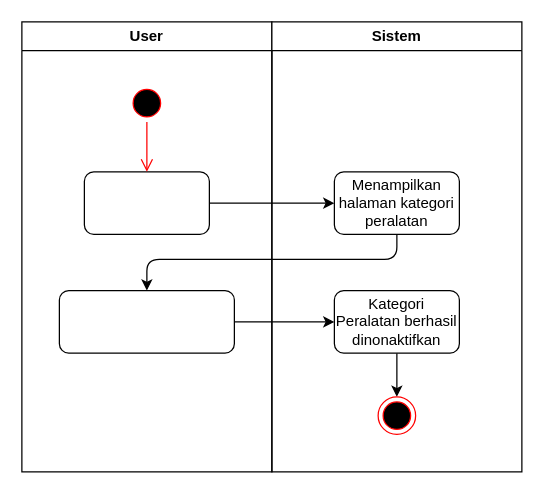
Some shapes in this 544 by 494 pixel diagram are drawn without their labels. Each missing label, with the centre of its shape:
Pilih fitur kategori peralatan: [146,202]
Pilih salah satu tombol nonaktif pada kolom aksi (icon stop): [146,321]
